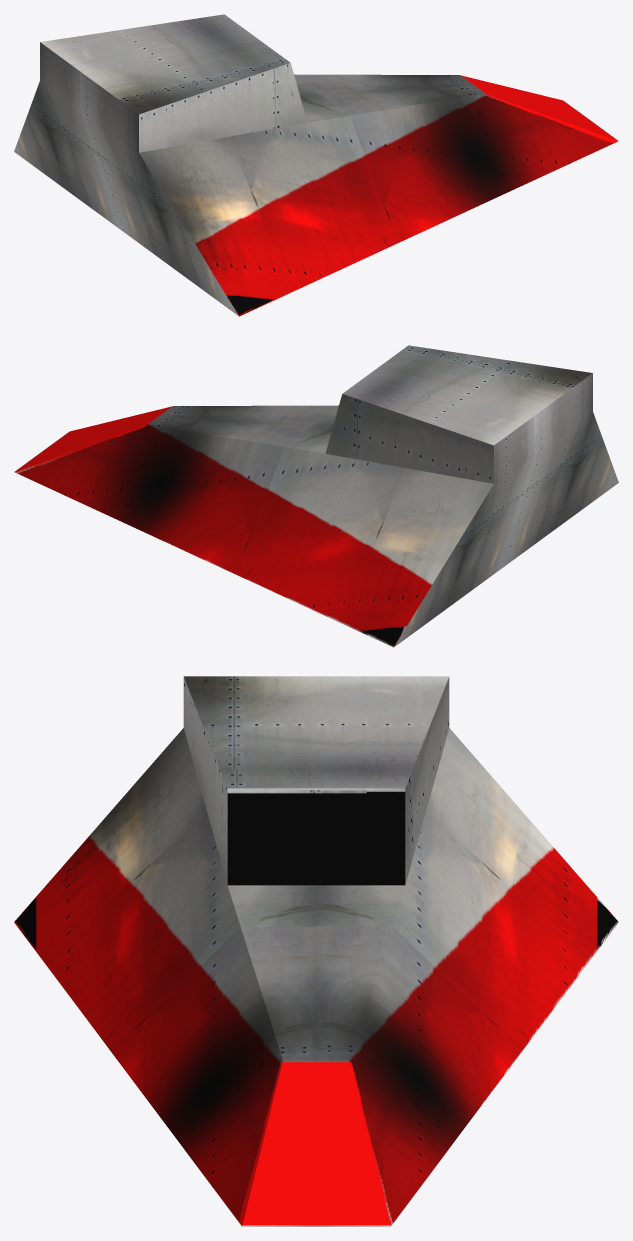
The model's file is speedBoat01_RED.fbx.
3 views of the same model, one above another, from view 1: azimuth 30°, elevation 25°; view 2: azimuth 150°, elevation 25°; view 3: azimuth 270°, elevation 25° (orthographic). The views are drawn at different scales.
Parts seen in each view (by area): view 1: pCube1; view 2: pCube1; view 3: pCube1.
Boxes of the visible parts, <box> form: pCube1: <box>14,14,618,316</box>; pCube1: <box>14,345,618,647</box>; pCube1: <box>14,676,618,1226</box>.
Size of the model in its own units: 23.99 by 7.54 by 18.65.
1 material, 1 textured.
